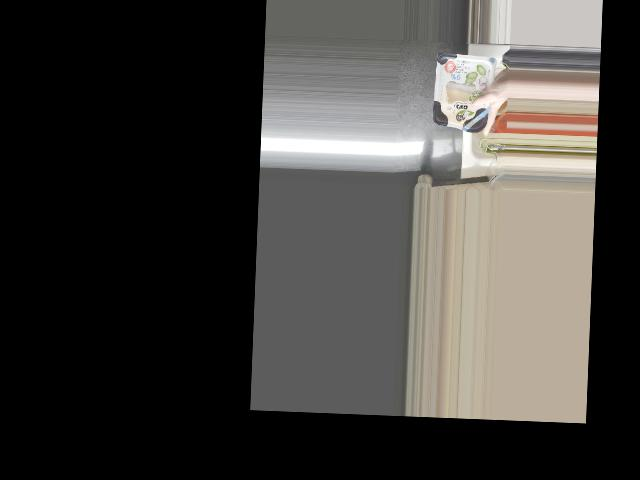cheese: (433, 55, 495, 133)
